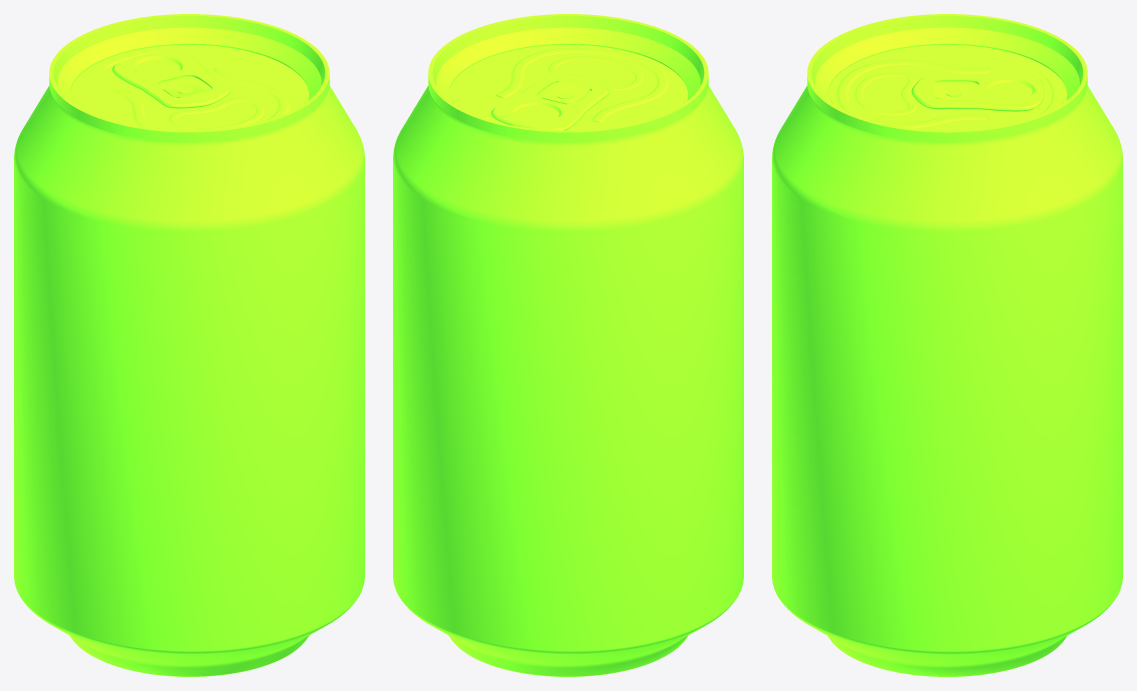
File: drink.glb
3 views of the same model, side by side, from view 1: azimuth 30°, elevation 25°; view 2: azimuth 150°, elevation 25°; view 3: azimuth 270°, elevation 25° (orthographic).
Parts seen in each view (by area): view 1: drink; view 2: drink; view 3: drink.
Boxes of the visible parts, x1,y1,x2,y2 form: drink: (14,14,364,676); drink: (393,14,743,676); drink: (772,14,1122,676).
Bounding box in the file's own units: 0.0663 × 0.1152 × 0.0663.
Materials: 1 (1 with a texture image).
